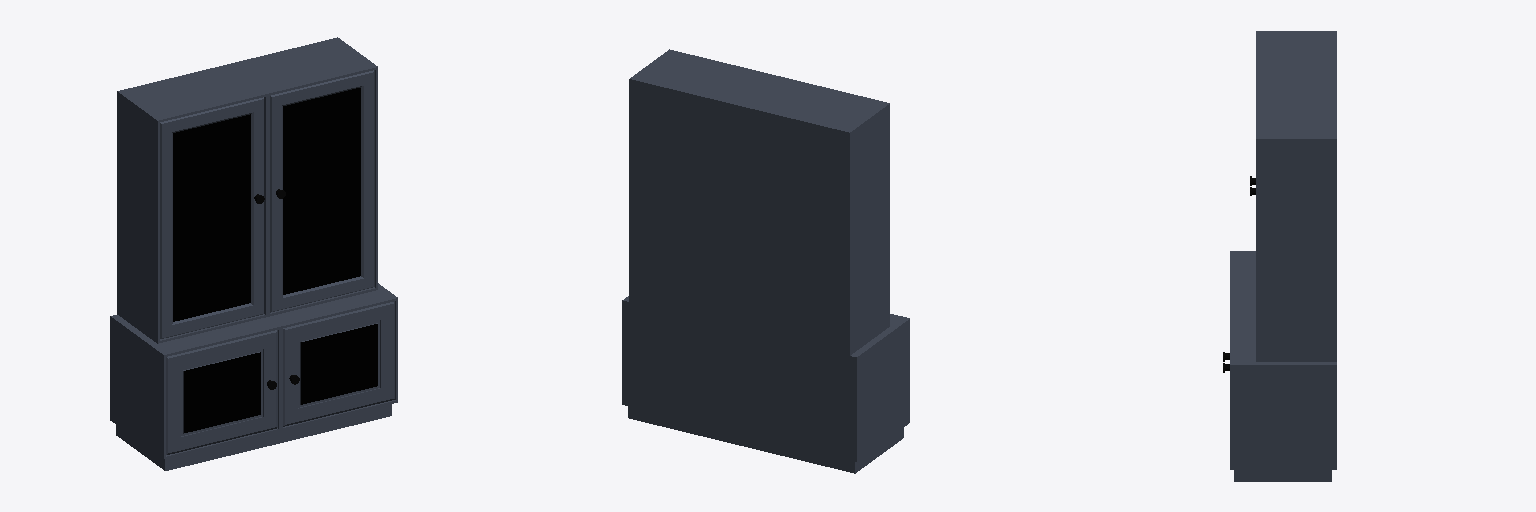
The model's file is cupboard1_gray.obj.
3 views of the same model, side by side, from view 1: azimuth 30°, elevation 25°; view 2: azimuth 150°, elevation 25°; view 3: azimuth 270°, elevation 25° (orthographic).
Parts seen in each view (by area): view 1: Default; view 2: Default; view 3: Default.
Part boxes in pixels (x1,y1,x2,y2): Default: (110,37,397,470); Default: (622,49,909,473); Default: (1223,31,1336,481).
Size of the model in its own units: 102 by 142 by 42.64.